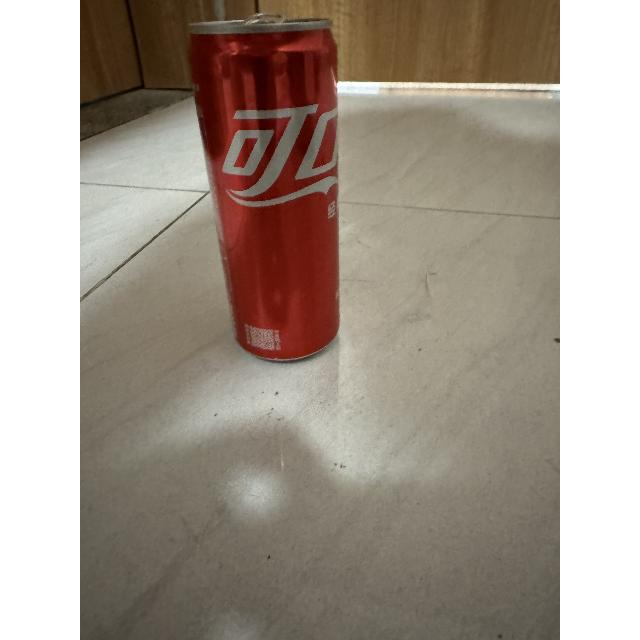coca-cola: (182, 7, 354, 367)
